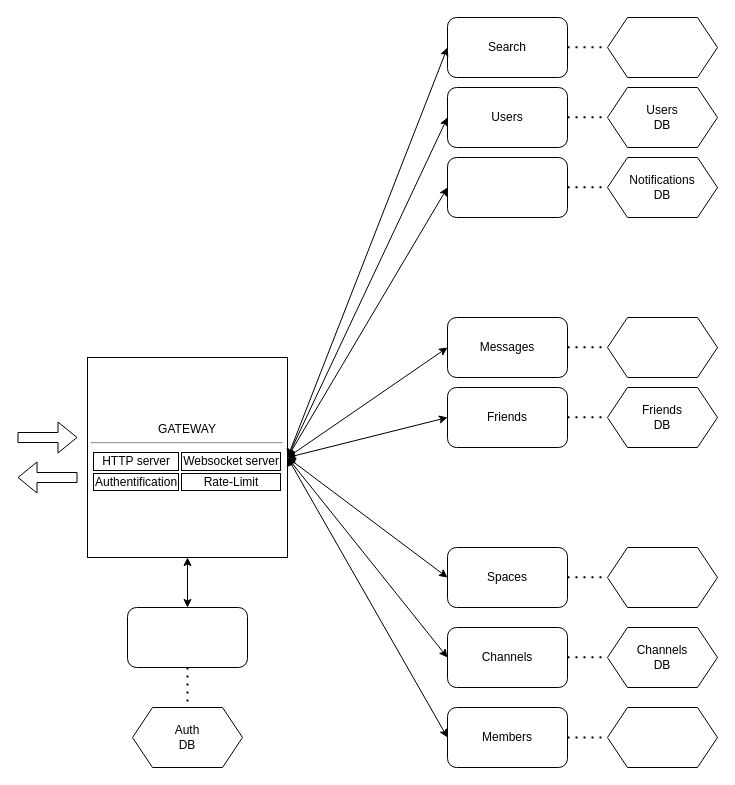
Some shapes in this 735 by 785 pixel diagram are drawn without their labels. Each missing label, with the centre of its shape:
"Authentification" goes at point (187, 637).
"Members DB" goes at point (662, 737).
"Messages DB" goes at point (662, 347).
"Notifications" goes at point (507, 187).
"Search DB" goes at point (662, 47).
"Spaces DB" goes at point (662, 577).
